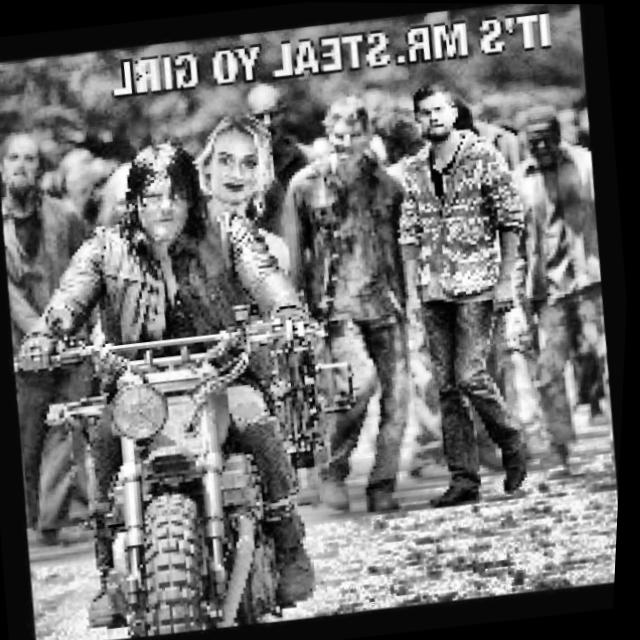motorcycle: (0, 253, 427, 640)
